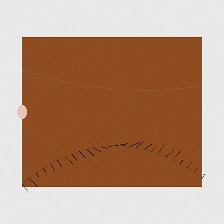pterygium_lesion: (169, 100, 200, 124)
